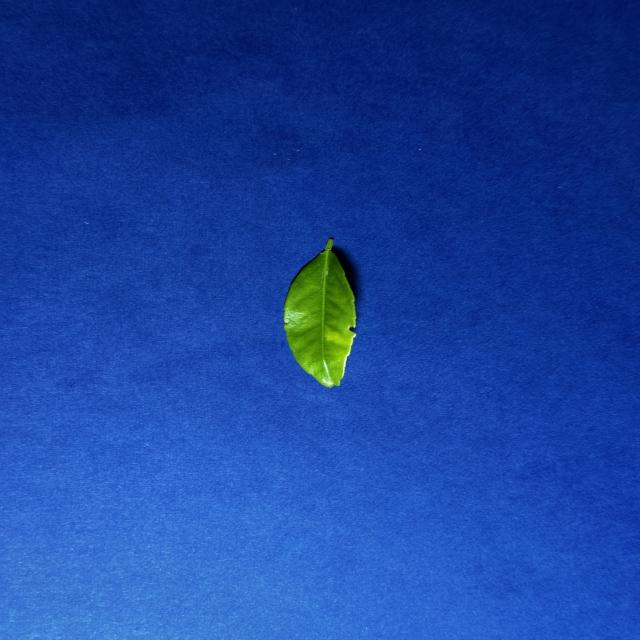greening: (284, 238, 356, 387)
